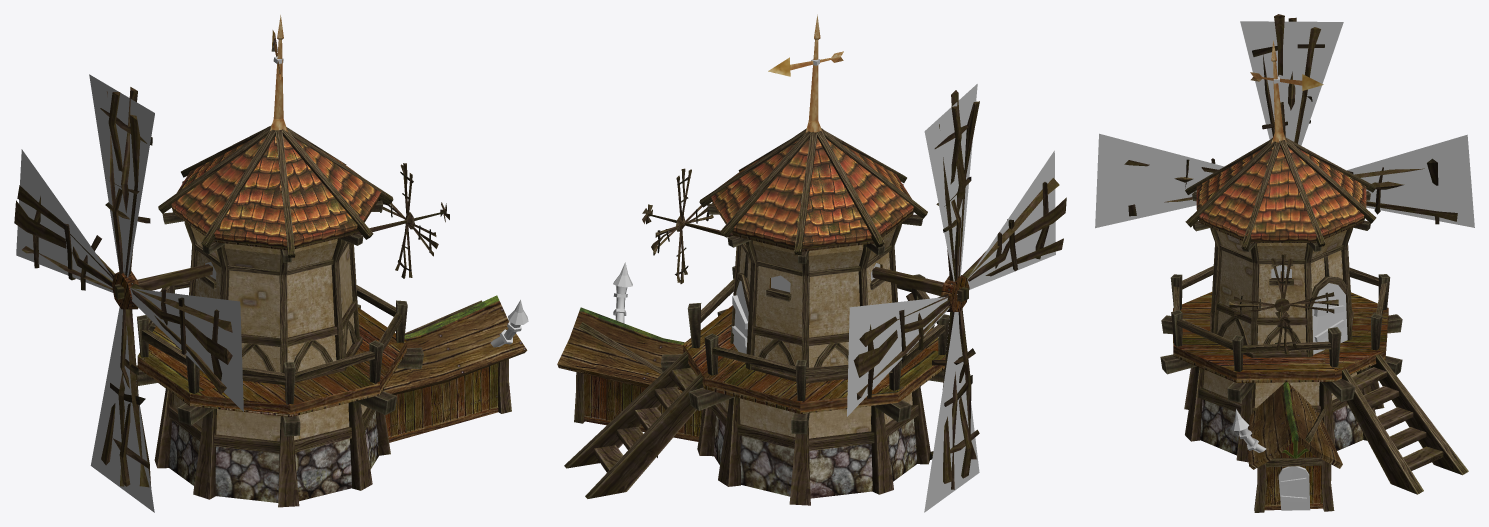
File: windmill.FBX
3 renders of one model, left to right at view 1: azimuth 30°, elevation 25°; view 2: azimuth 150°, elevation 25°; view 3: azimuth 270°, elevation 25°, orthographic. The views are drawn at different scales.
Parts seen in each view (by area): view 1: Wind Mill; view 2: Wind Mill; view 3: Wind Mill.
Part boxes in pixels (x1=…): Wind Mill: x1=14, y1=15, x2=528, y2=512; Wind Mill: x1=557, y1=14, x2=1066, y2=512; Wind Mill: x1=1095, y1=14, x2=1474, y2=512.
Bounding box in the file's own units: 13.89 × 15.2 × 13.56.
